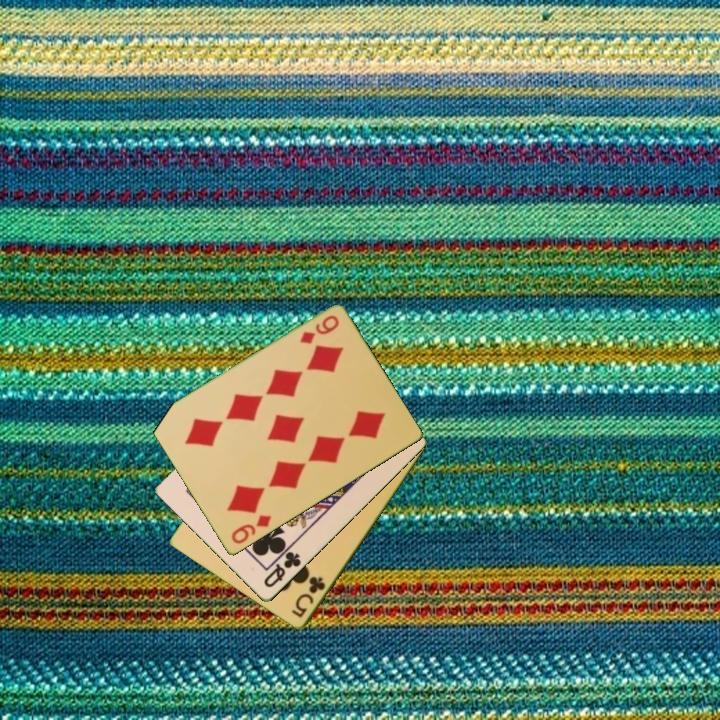5c: (288, 573, 329, 621)
9d: (228, 512, 274, 548), (296, 312, 342, 347)
Qc: (260, 548, 304, 591)
